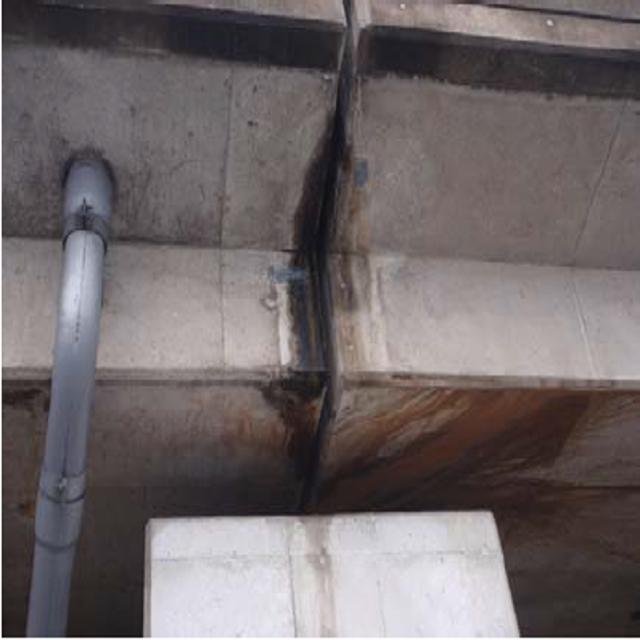leakage: (270, 47, 369, 469)
